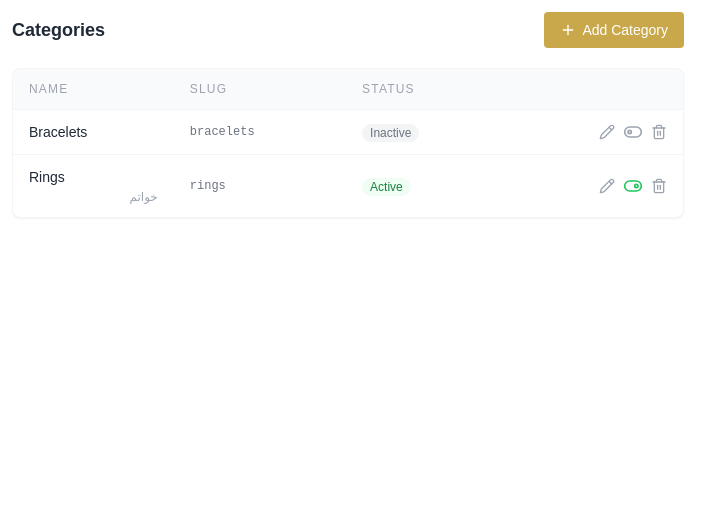
Test: categories labels (NEX-64) › still derives the slug from the English name
The width and height of the screenshot is (701, 527).
Click the button "Add Category". click: (614, 30)
box: [544,12,684,48]
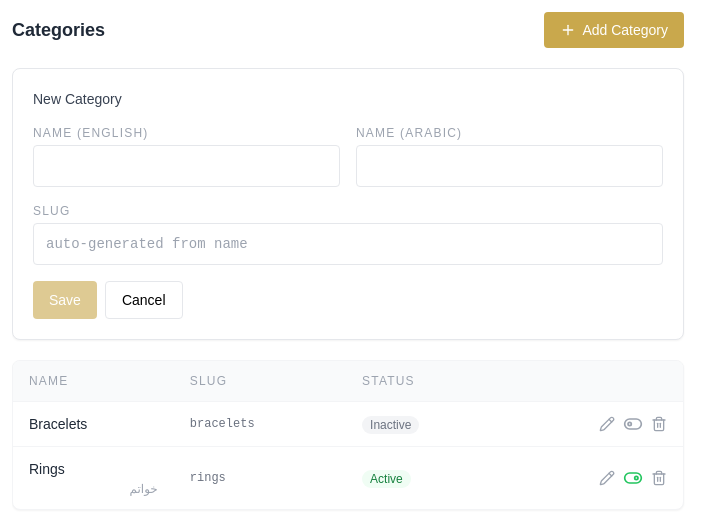
Type "Gold Chains" into the field labelled "Name (English)". click: (186, 166)
box: [33,145,340,187]
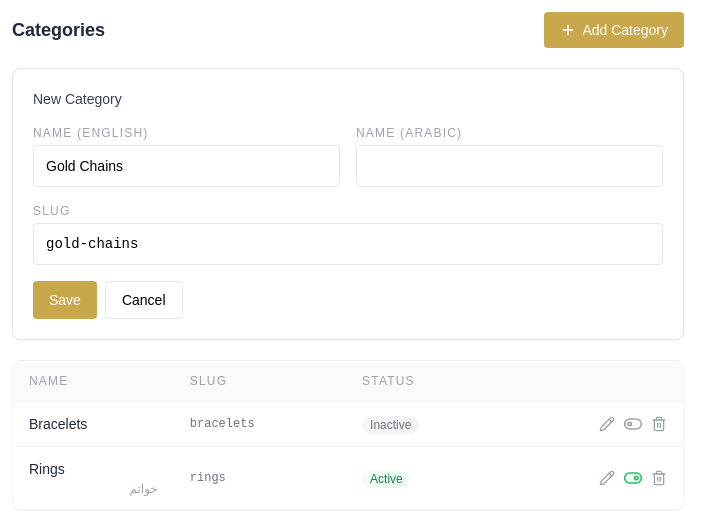
Now the field labelled "Slug" holds "gold-chains", box [33,223,663,265]
